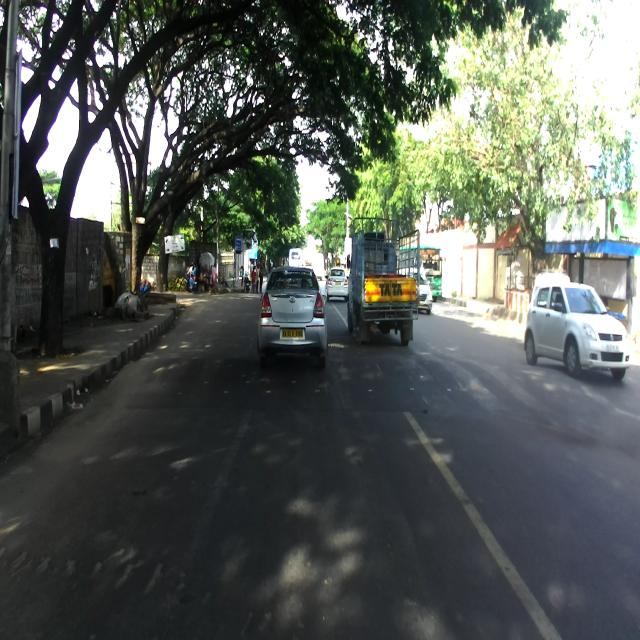car ahead at: (525, 281, 630, 380), (260, 266, 330, 358)
tree ahead at: (27, 112, 111, 350)
truck ahead at: (349, 210, 420, 331)
